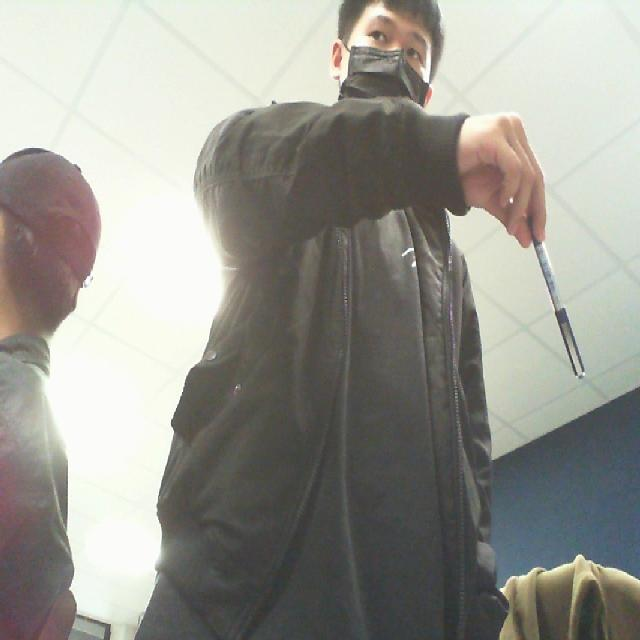Pen: (506, 203, 600, 399)
